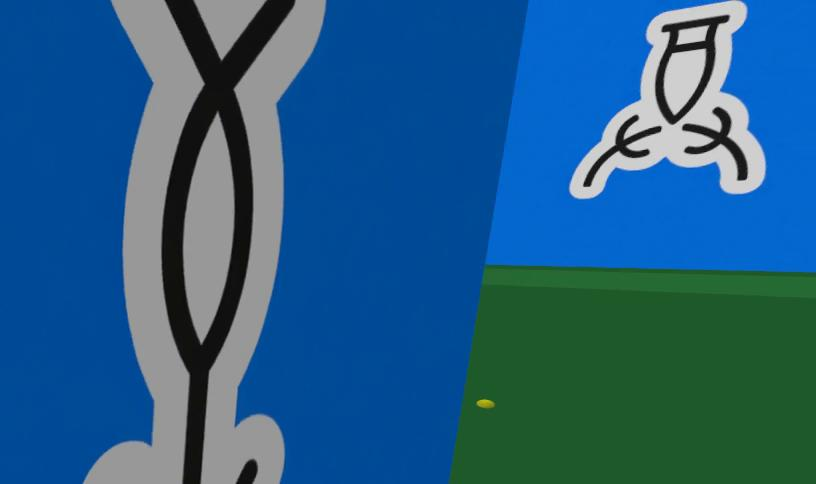KFS_REAL: (0, 0, 634, 484), (82, 0, 325, 484), (487, 0, 815, 271), (570, 0, 765, 198)
